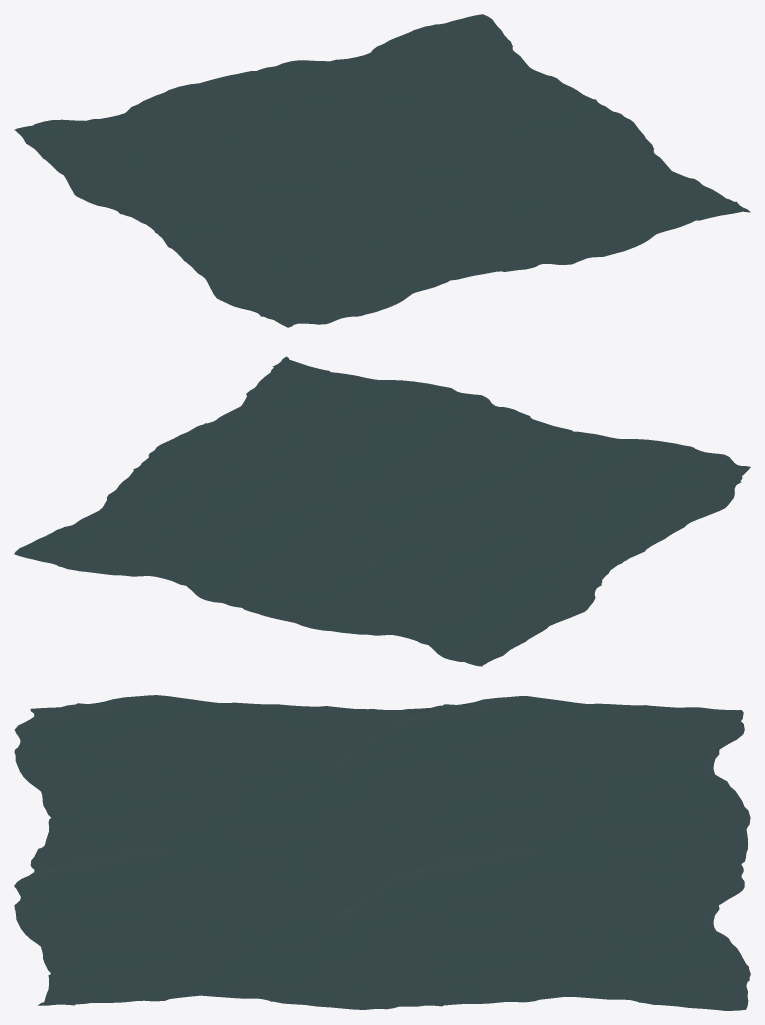
Rendered from water-waves-base.glb.
3 views of the same model, one above another, from view 1: azimuth 30°, elevation 25°; view 2: azimuth 150°, elevation 25°; view 3: azimuth 270°, elevation 25° (orthographic). The views are drawn at different scales.
Parts seen in each view (by area): view 1: Plane__CopyShape; view 2: Plane__CopyShape; view 3: Plane__CopyShape.
Boxes of the visible parts, left/top/right/bottom form: Plane__CopyShape: left=14, top=14, right=750, bottom=327; Plane__CopyShape: left=14, top=356, right=750, bottom=666; Plane__CopyShape: left=14, top=695, right=750, bottom=1010.
Size of the model in its own units: 2202 by 8.4 by 2182.
